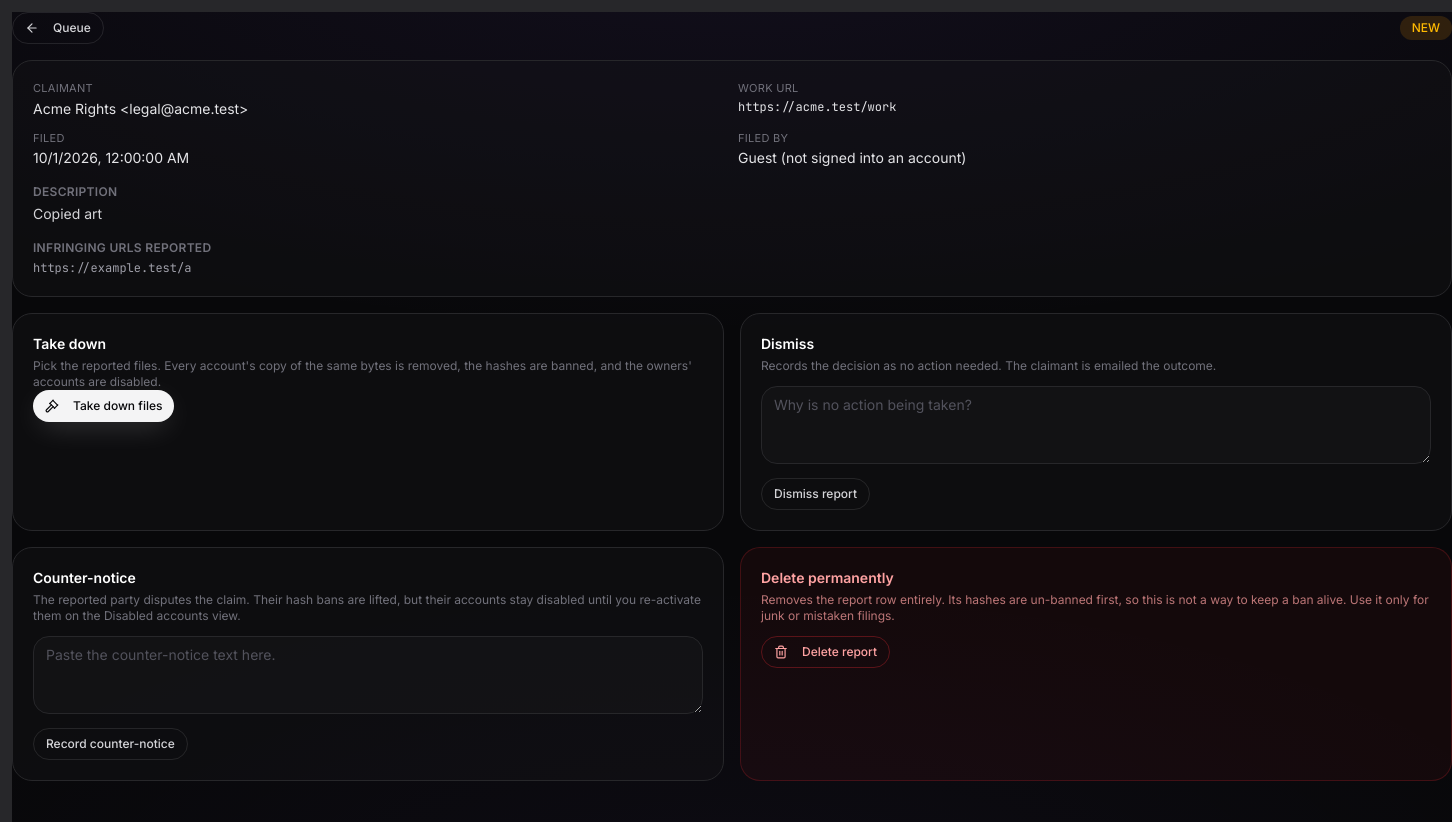
ModerationTab report detail notices (B2) › dismissing shows the success notice instead of clearing it
Click the button "Dismiss report" at (816, 494), box [761,478,870,510]
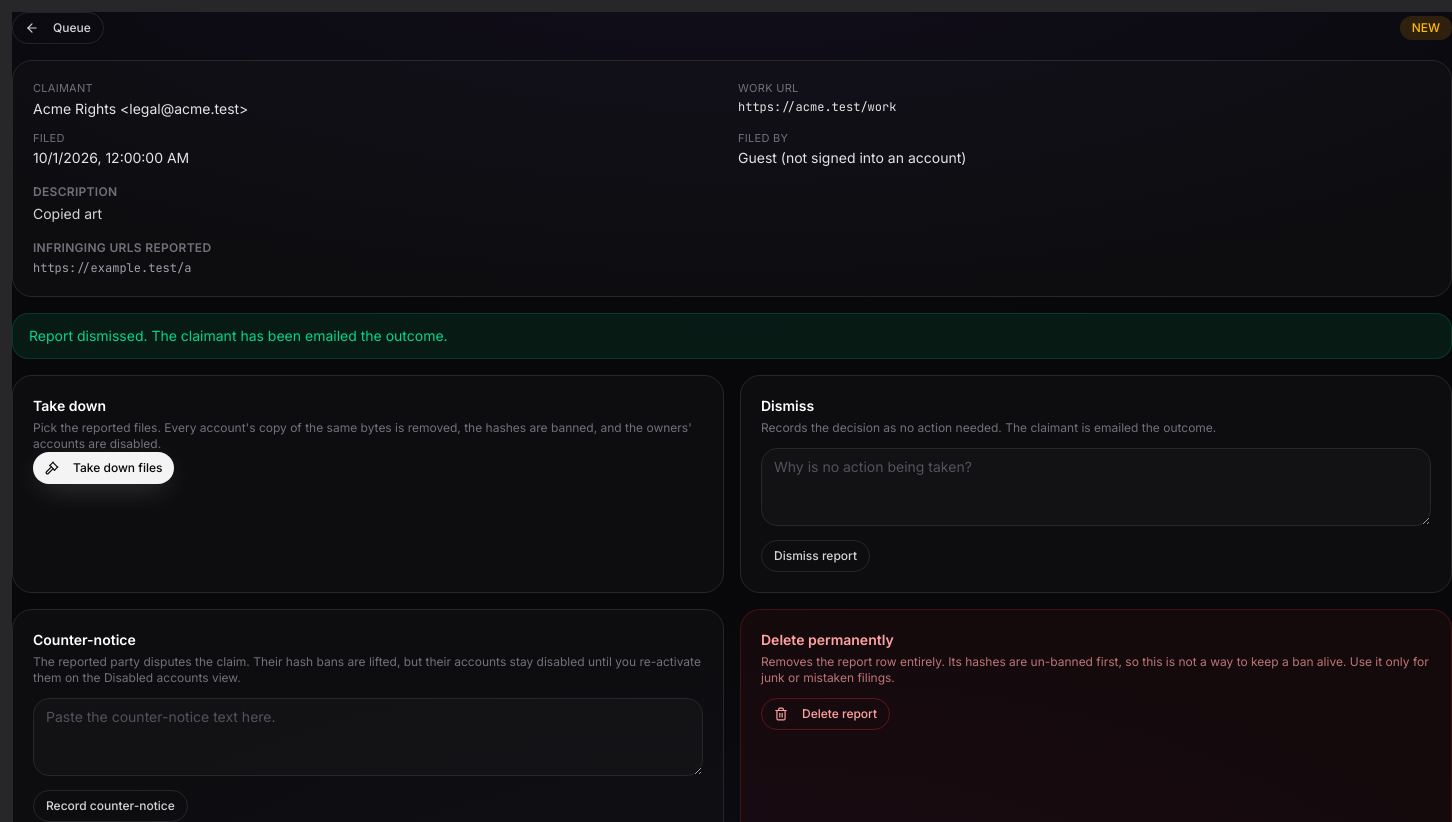
Result: the text "Report dismissed. The claimant has been emailed the outcome." is shown at [12,313,1451,359]
